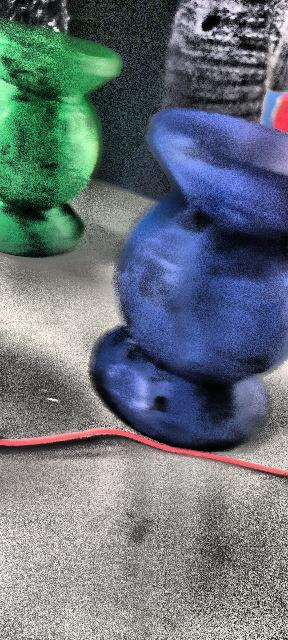blue: (92, 107, 286, 450)
green: (0, 18, 122, 256)
